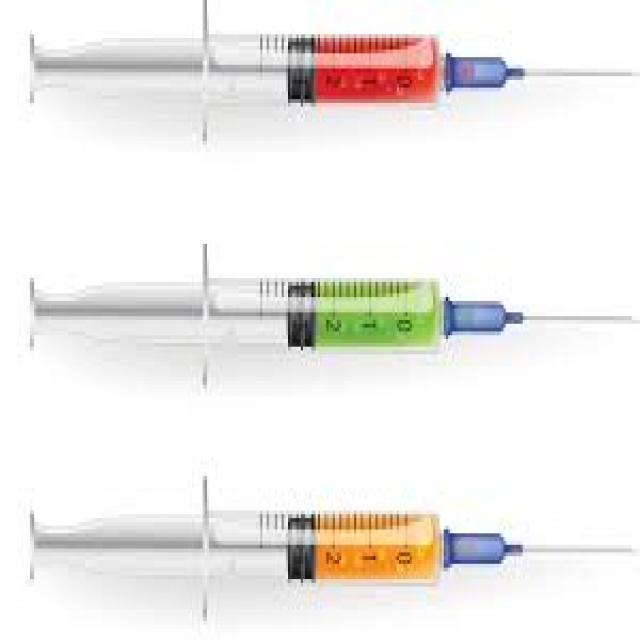syringe: (33, 245, 639, 399), (1, 19, 638, 138), (21, 482, 640, 594)
